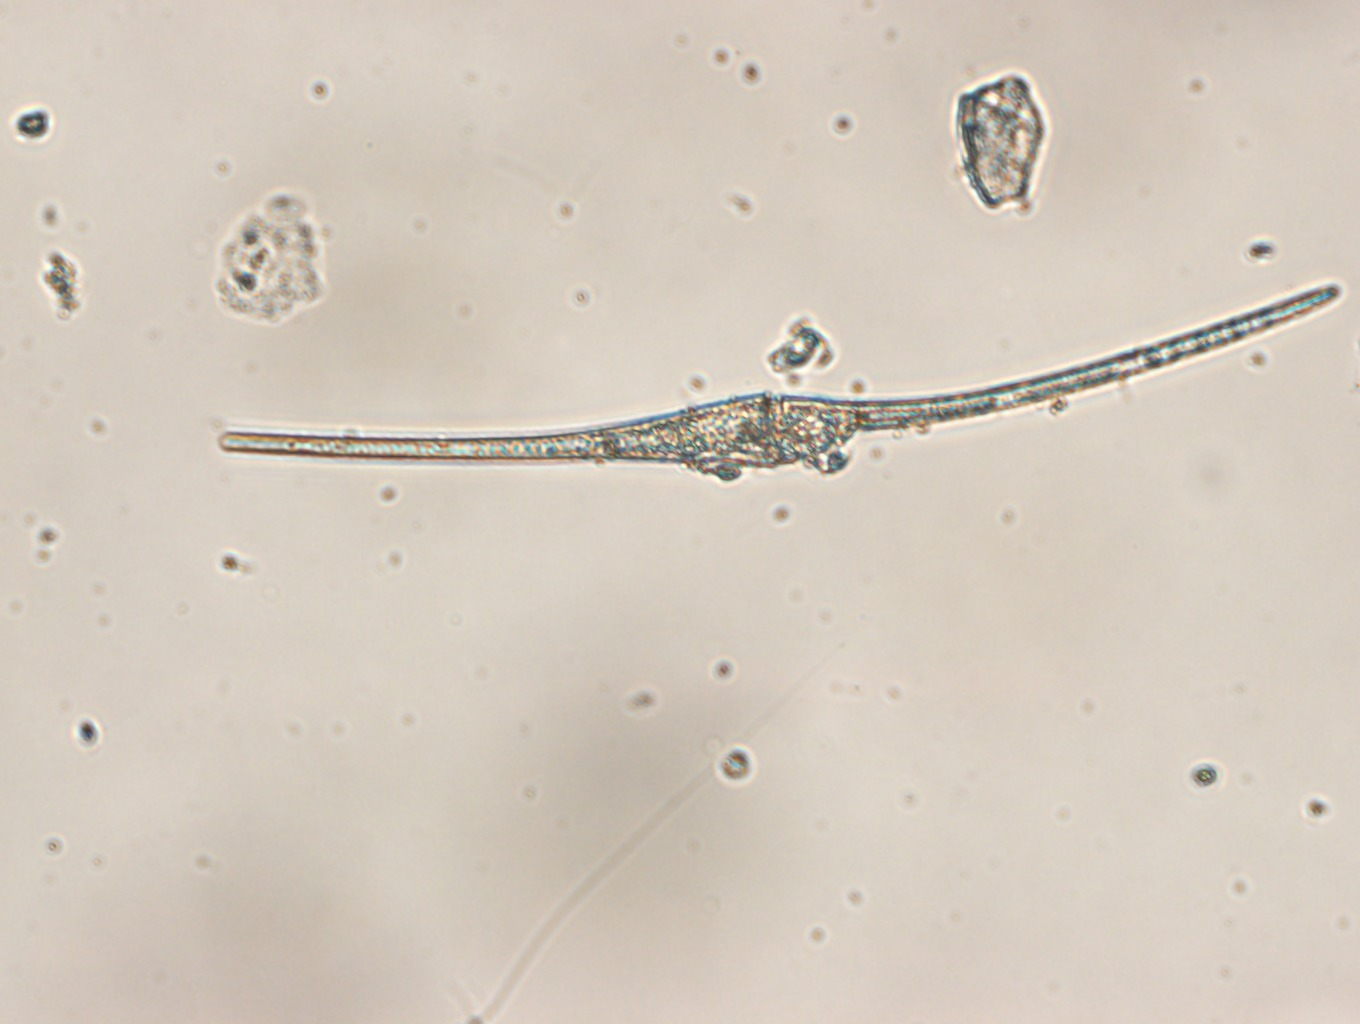ceratium fusus: (217, 276, 1338, 484)
